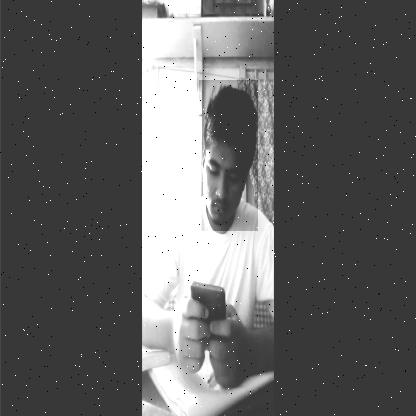Normal: (199, 80, 258, 231)
